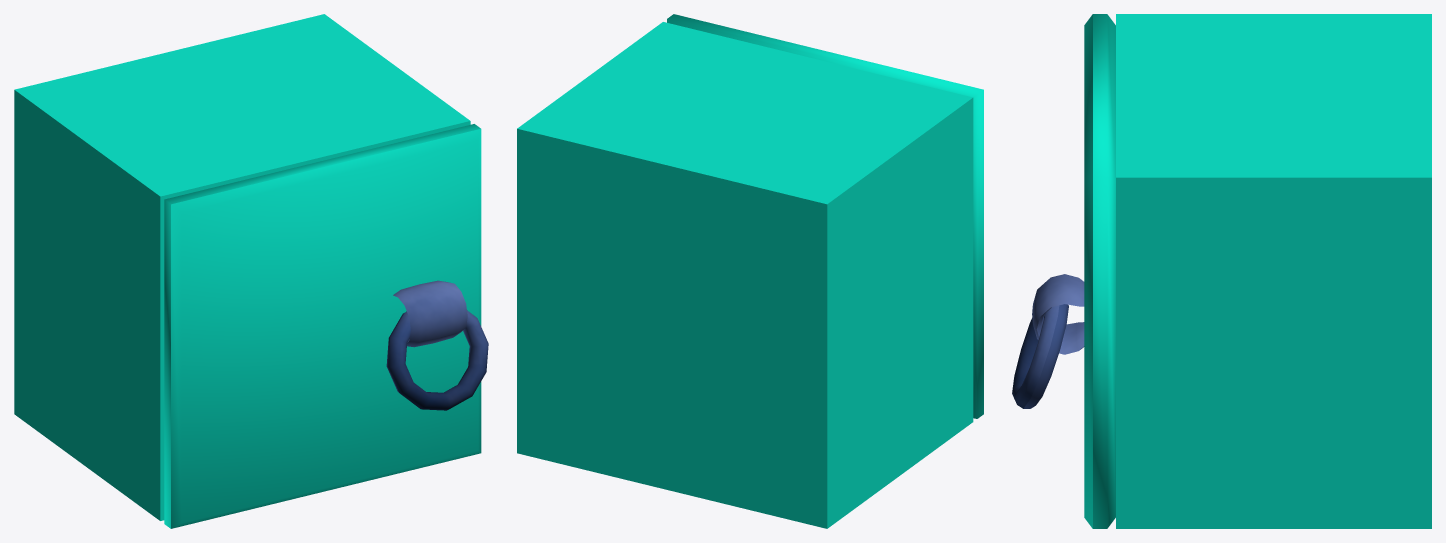
Rendered from MiniFreezerHookable.fbx.
3 views of the same model, side by side, from view 1: azimuth 30°, elevation 25°; view 2: azimuth 150°, elevation 25°; view 3: azimuth 270°, elevation 25° (orthographic). The views are drawn at different scales.
Parts seen in each view (by area): view 1: MiniFreezerHookableDoor, MiniFreezerHookable; view 2: MiniFreezerHookable, MiniFreezerHookableDoor; view 3: MiniFreezerHookable, MiniFreezerHookableDoor.
Boxes of the visible parts, x1=… form: MiniFreezerHookableDoor: x1=164, y1=124, x2=488, y2=528; MiniFreezerHookable: x1=14, y1=14, x2=470, y2=520; MiniFreezerHookable: x1=517, y1=22, x2=973, y2=528; MiniFreezerHookableDoor: x1=667, y1=14, x2=983, y2=418; MiniFreezerHookable: x1=1116, y1=14, x2=1431, y2=528; MiniFreezerHookableDoor: x1=1012, y1=14, x2=1115, y2=528.
Size of the model in its own units: 225 by 225 by 244.
